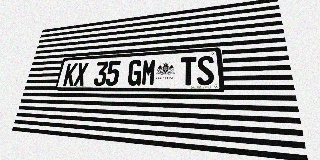3: (93, 61, 109, 86)
5: (105, 61, 121, 86)
G: (127, 59, 143, 86)
K: (63, 63, 78, 86)
M: (141, 59, 157, 86)
S: (197, 56, 215, 85)
T: (180, 56, 197, 85)
X: (73, 62, 89, 86)
